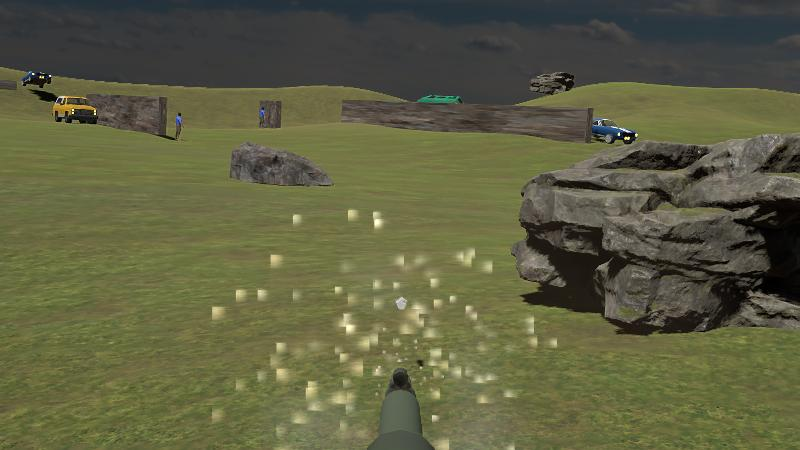car: (591, 117, 638, 147), (53, 95, 98, 126)
